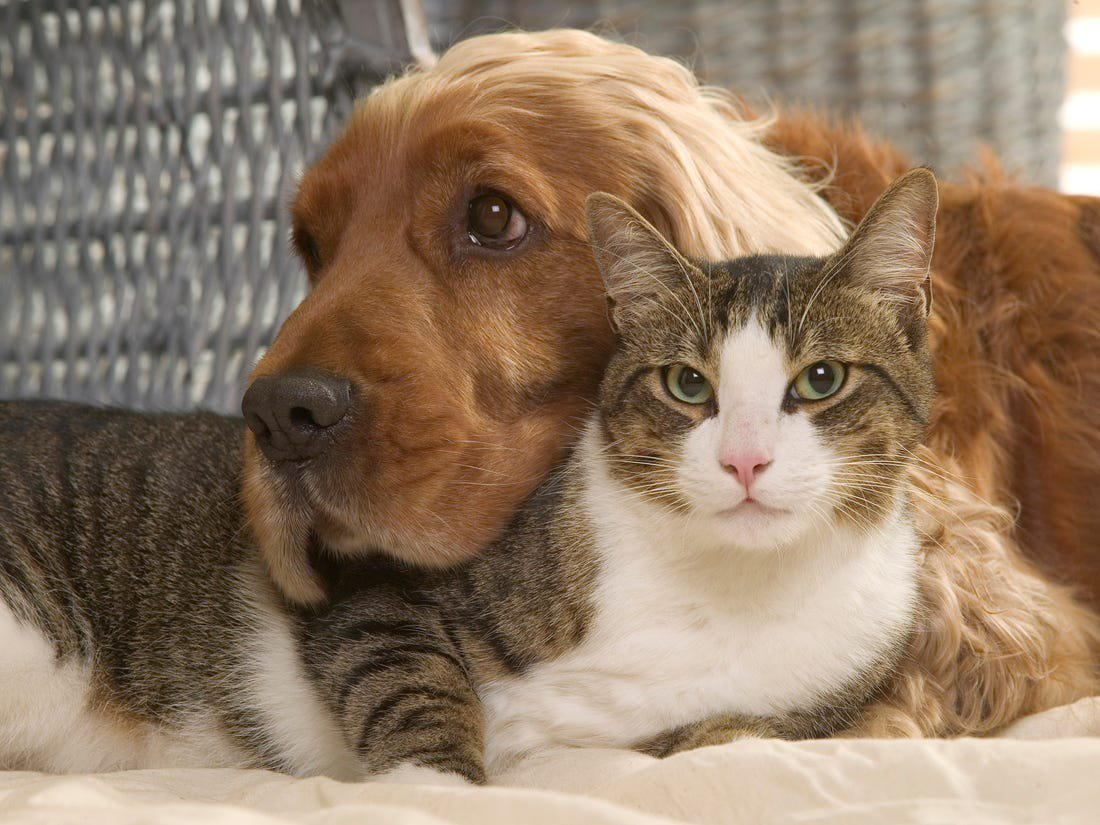cat: (583, 170, 951, 707)
dog: (243, 23, 668, 570)
